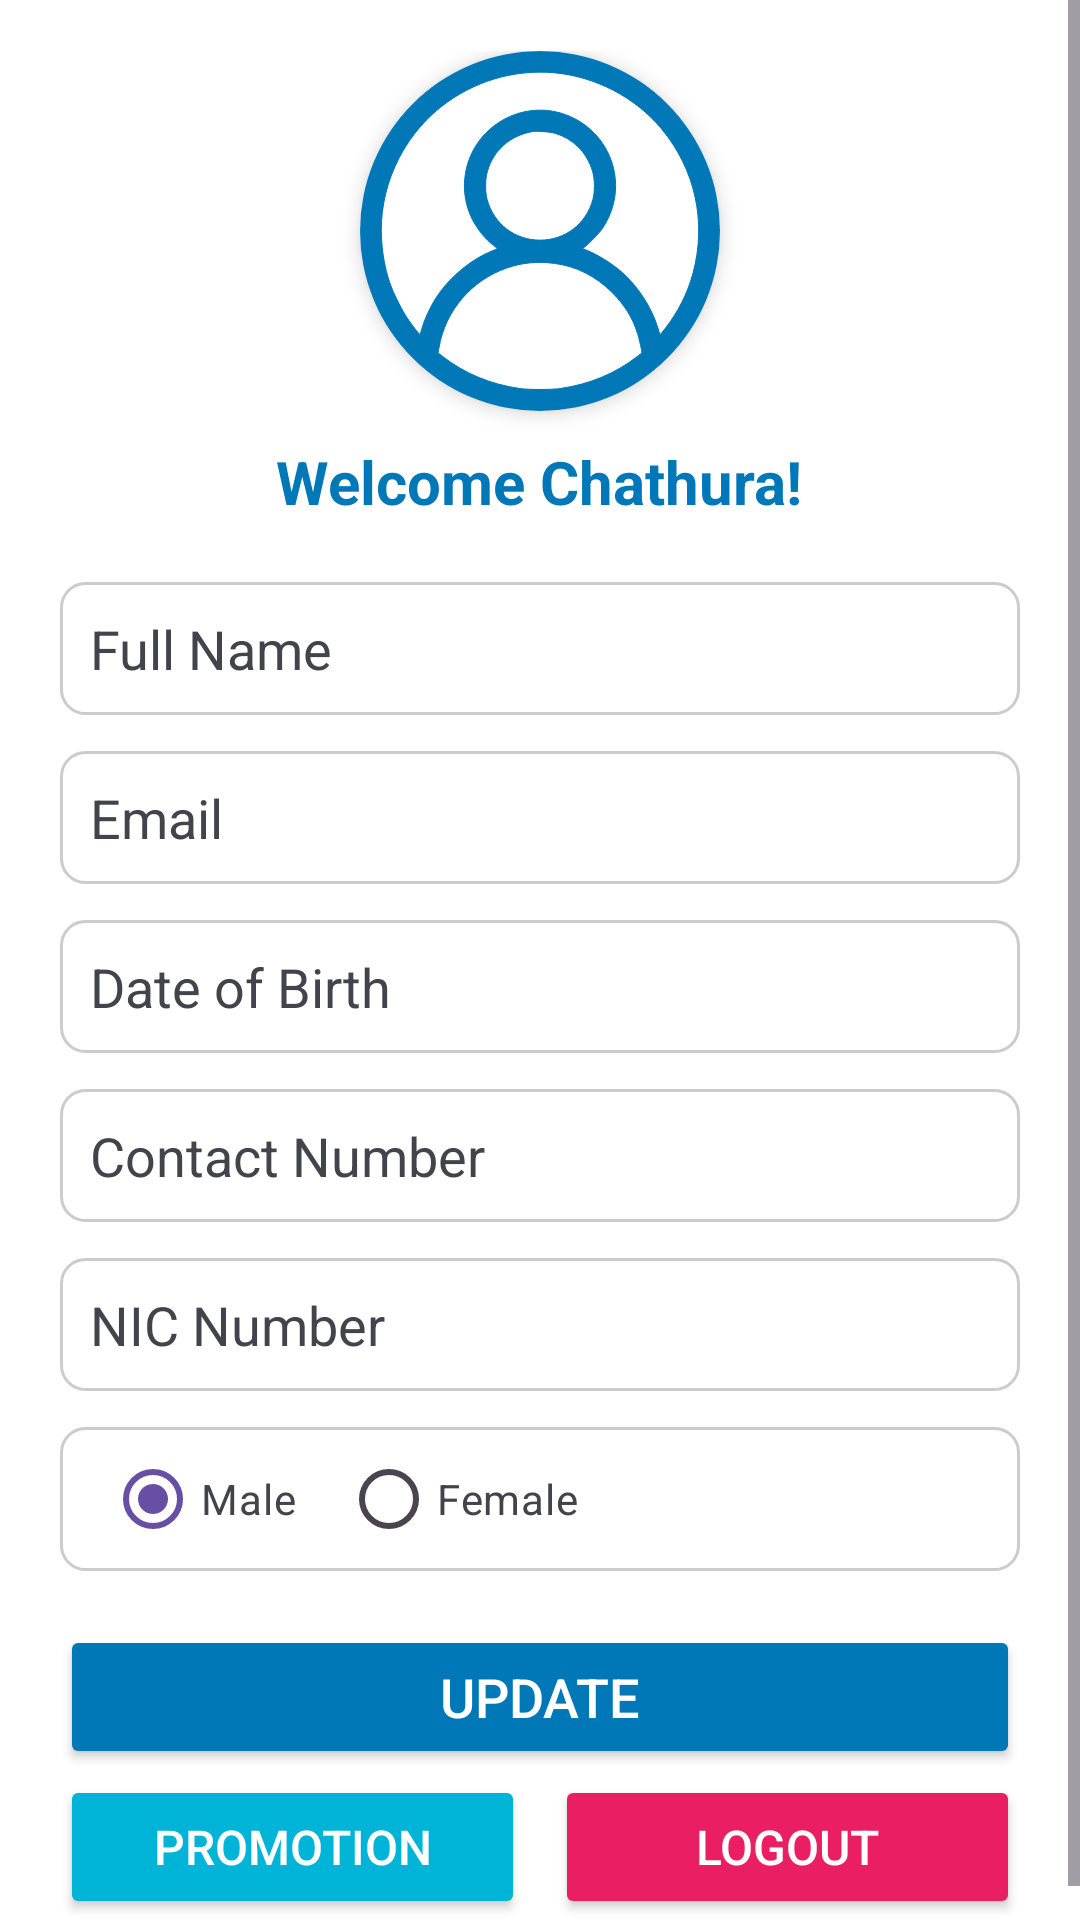

Named icons in this screenshot (1080px x 1920px) and their centers, (x=x, y=y):
profile: (x=540, y=231)
